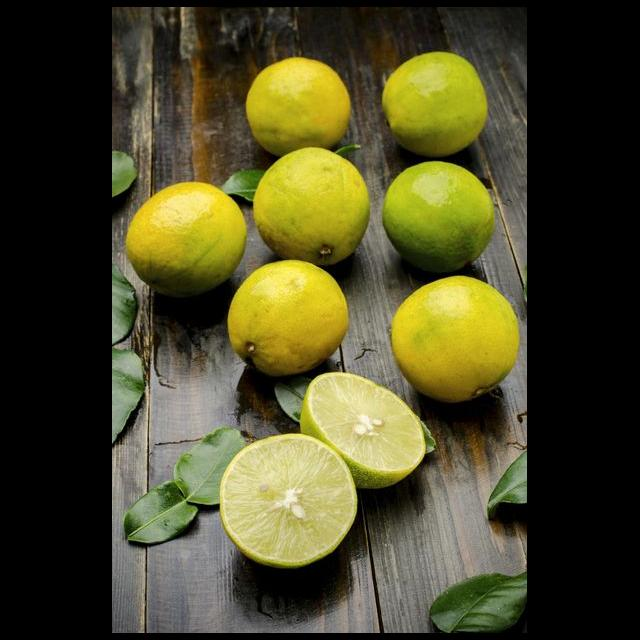lime: (390, 276, 522, 406), (254, 148, 370, 271), (230, 261, 350, 379), (126, 183, 248, 299), (384, 162, 496, 274), (384, 52, 488, 161), (246, 59, 354, 161)
